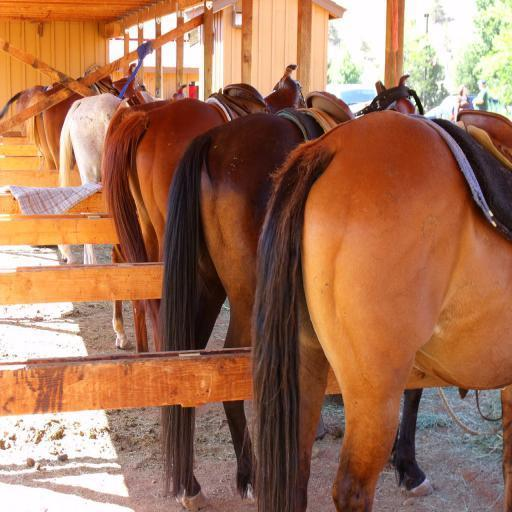horse: (0, 72, 512, 512)
